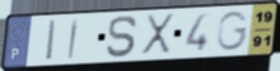4: (183, 11, 212, 54)
G: (216, 10, 252, 52)
I: (66, 17, 82, 61), (44, 18, 59, 63)
S: (105, 14, 140, 59)
X: (138, 12, 176, 56)
